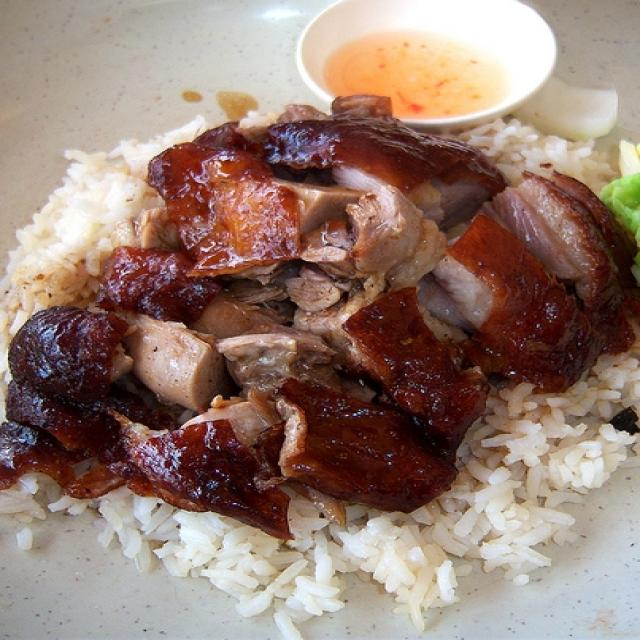米饭主食: (11, 77, 634, 596)
